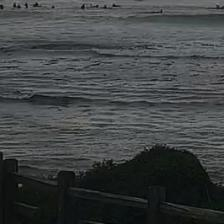surfer: (214, 5, 223, 12), (152, 9, 163, 14), (112, 3, 122, 7), (102, 4, 110, 9), (90, 4, 99, 8), (34, 2, 40, 8), (81, 3, 85, 9), (24, 3, 28, 8), (17, 4, 21, 9), (13, 2, 16, 8), (1, 4, 4, 9), (51, 6, 55, 9)
